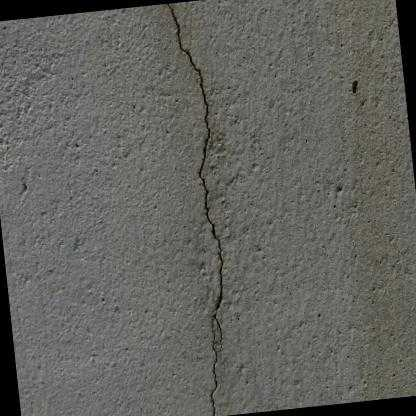crack: (167, 3, 223, 351), (211, 324, 217, 416)
